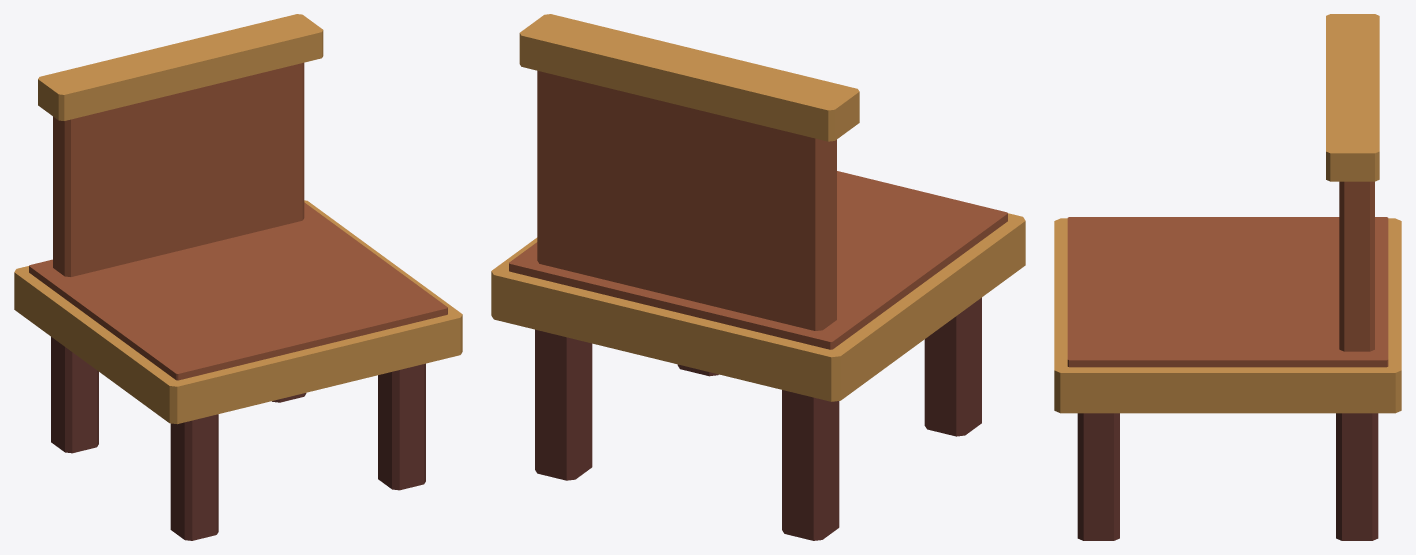
Rendered from Chair.fbx.
3 views of the same model, side by side, from view 1: azimuth 30°, elevation 25°; view 2: azimuth 150°, elevation 25°; view 3: azimuth 270°, elevation 25° (orthographic). The views are drawn at different scales.
Visible parts, largest first — view 1: Chair.005; view 2: Chair.005; view 3: Chair.005.
Boxes of the visible parts, box(x1,y1,x2,y2) form: Chair.005: box(14, 14, 462, 540); Chair.005: box(491, 14, 1025, 540); Chair.005: box(1054, 14, 1401, 540).
Bounding box in the file's own units: 82 × 97.5 × 78.
